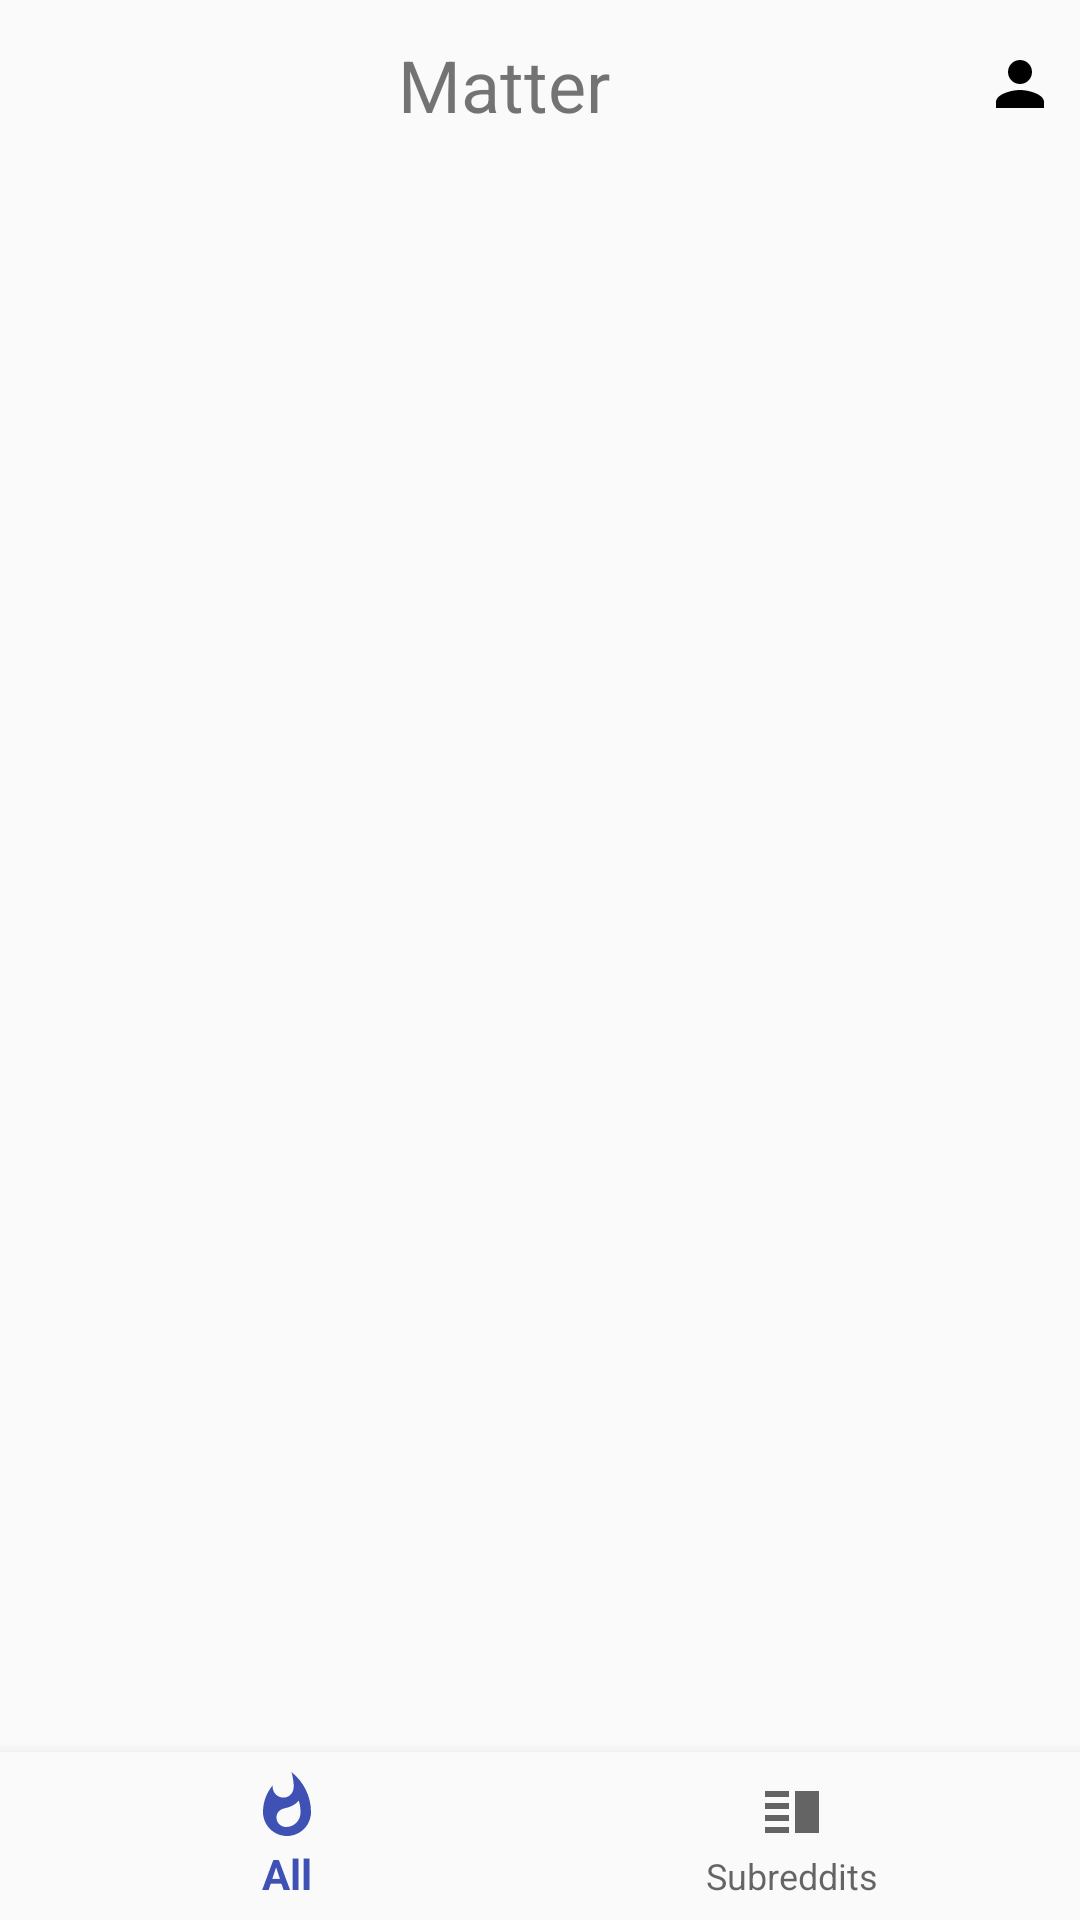

Icons on this 1080*1920 Android screen, each with its box as rect(x1, y1, x2, y2):
Profile: rect(996, 60, 1044, 108)
